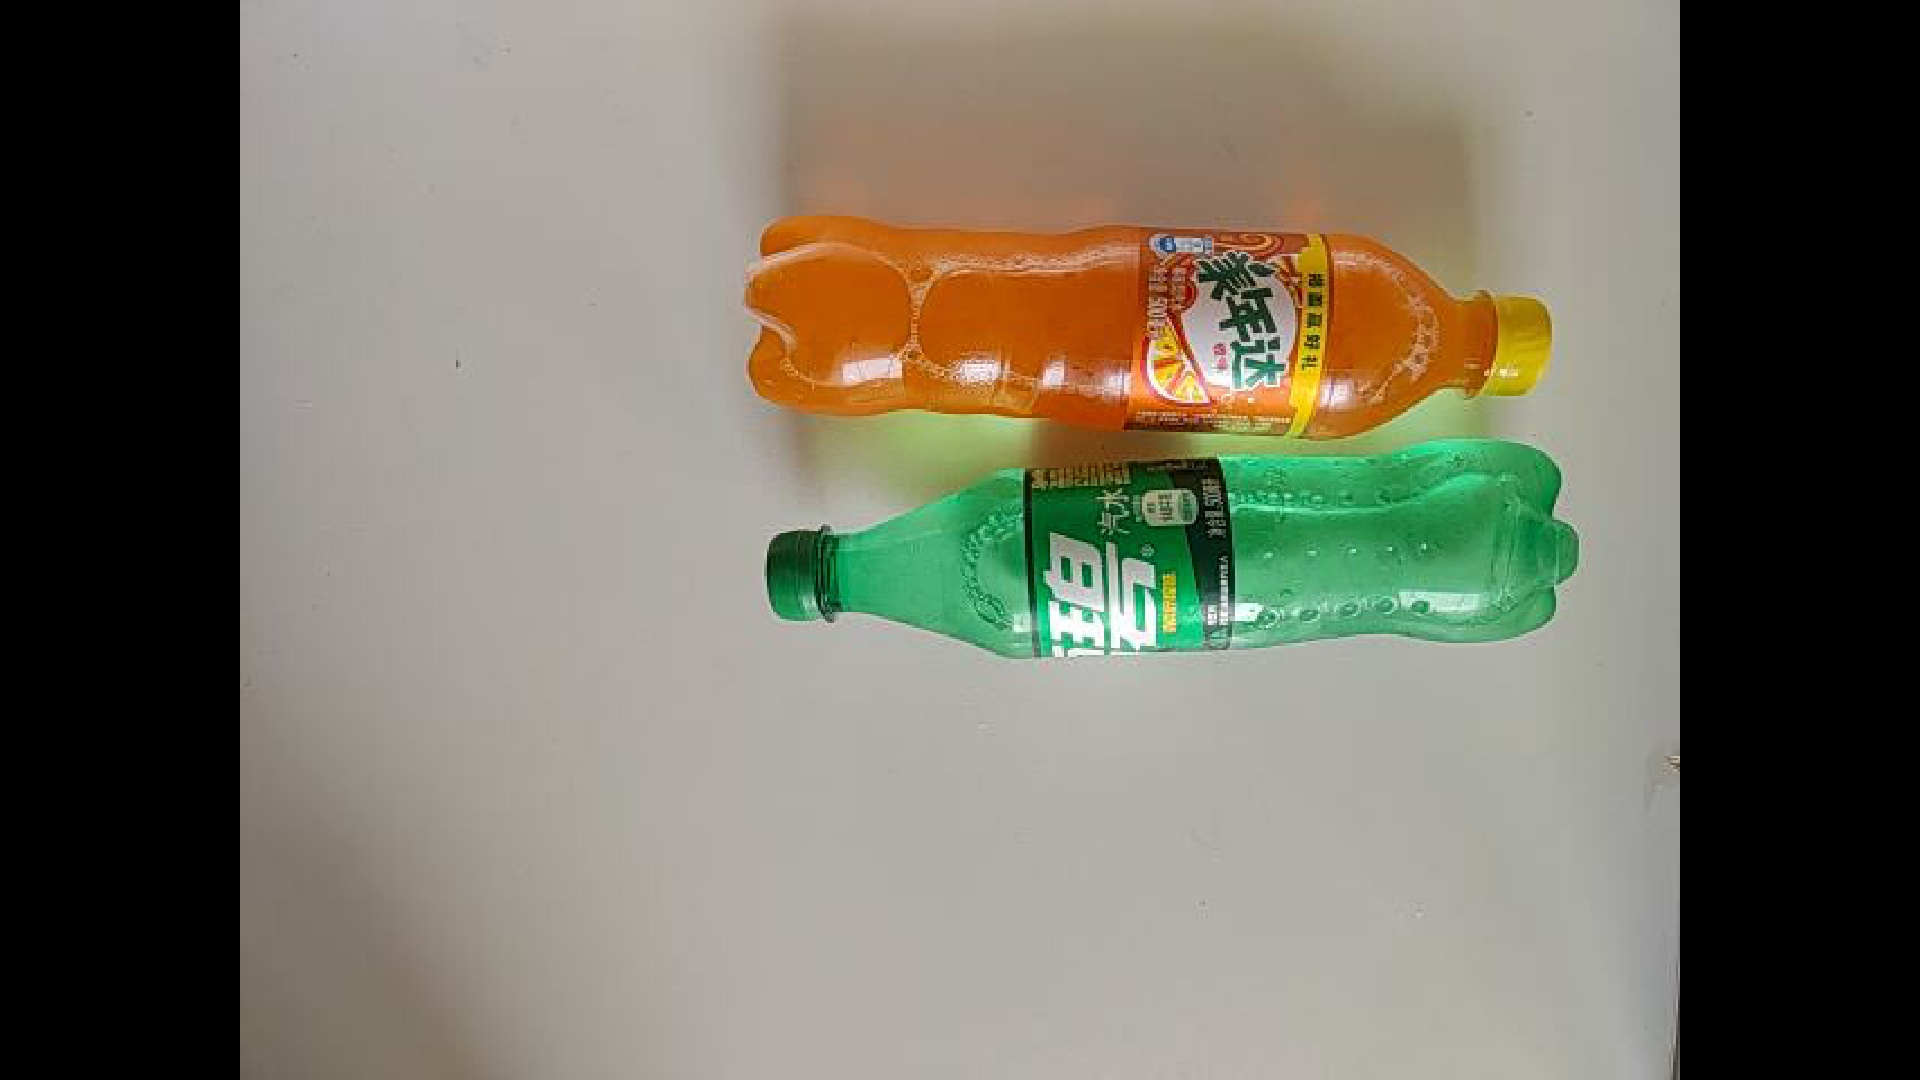fenta: (729, 204, 1560, 436)
sprite: (760, 443, 1586, 669)
